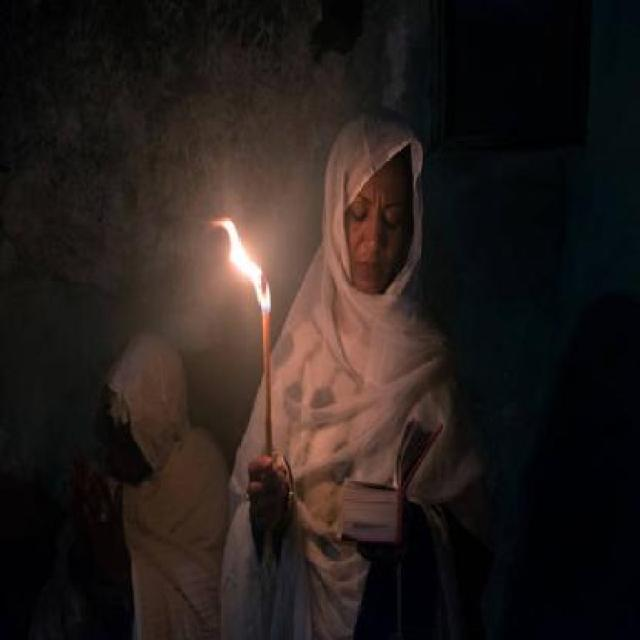Fire: (216, 206, 276, 322)
